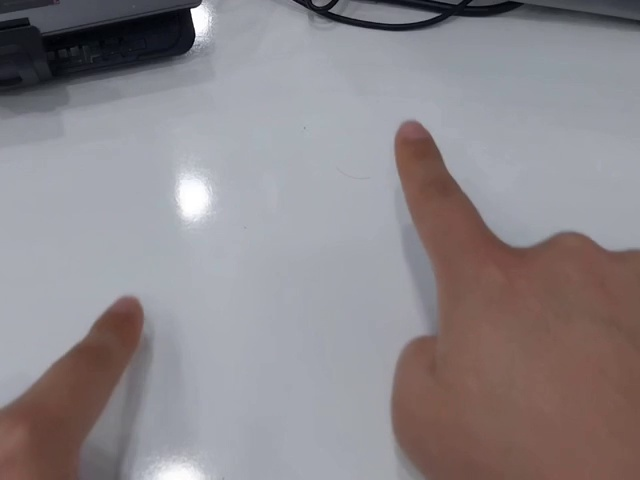fingers: (97, 294, 145, 345), (393, 117, 443, 163)
